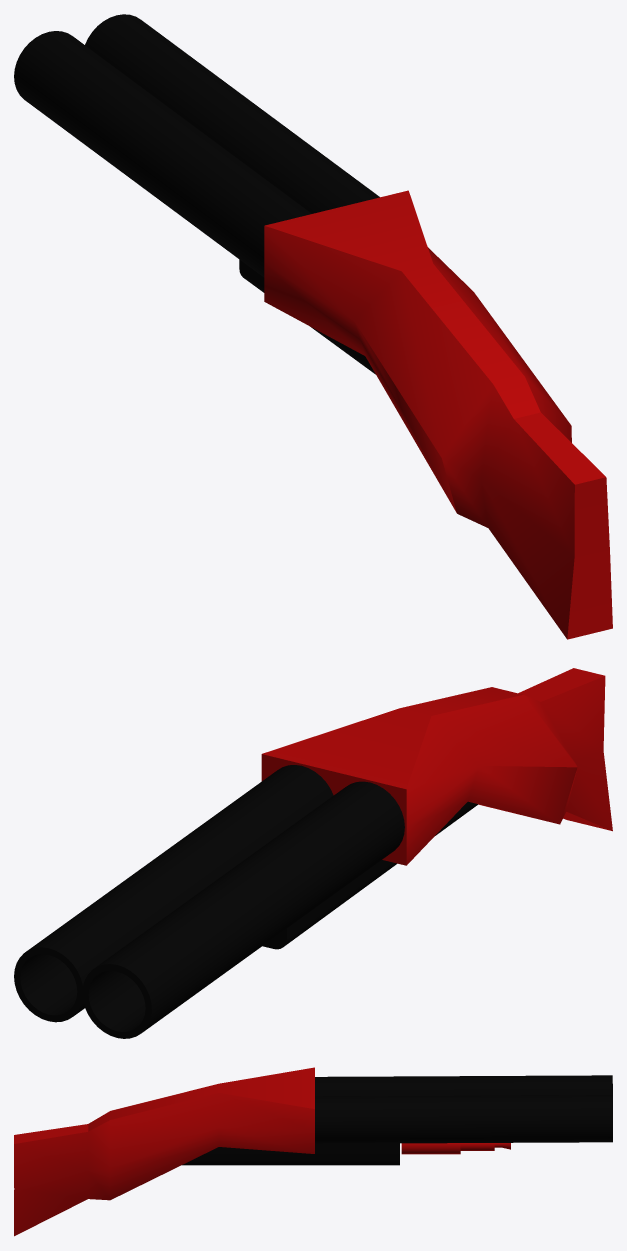
The model's file is Red-Black_Shot-Gun.fbx.
3 renders of one model, top to bottom at view 1: azimuth 30°, elevation 25°; view 2: azimuth 150°, elevation 25°; view 3: azimuth 270°, elevation 25°, orthographic. The views are drawn at different scales.
Parts seen in each view (by area): view 1: Cube, Cylinder.001, Cylinder; view 2: Cube, Cylinder.001, Cylinder, Cube.001; view 3: Cube, Cylinder, Cylinder.001, Cube.001, Cylinder.002.
Boxes of the visible parts, <box> form: Cube: <box>264,190,612,639</box>; Cylinder.001: <box>14,31,311,277</box>; Cylinder: <box>85,14,379,213</box>; Cube: <box>261,668,612,865</box>; Cylinder.001: <box>82,781,404,1038</box>; Cylinder: <box>14,765,333,1022</box>; Cube.001: <box>262,801,478,949</box>; Cube: <box>14,1067,314,1236</box>; Cylinder: <box>315,1095,612,1143</box>; Cylinder.001: <box>315,1075,612,1102</box>; Cube.001: <box>182,1143,399,1165</box>; Cylinder.002: <box>401,1143,510,1154</box>.
Bounding box in the file's own units: 206 × 327 × 1249.
Materials: 5 (5 with a texture image).
